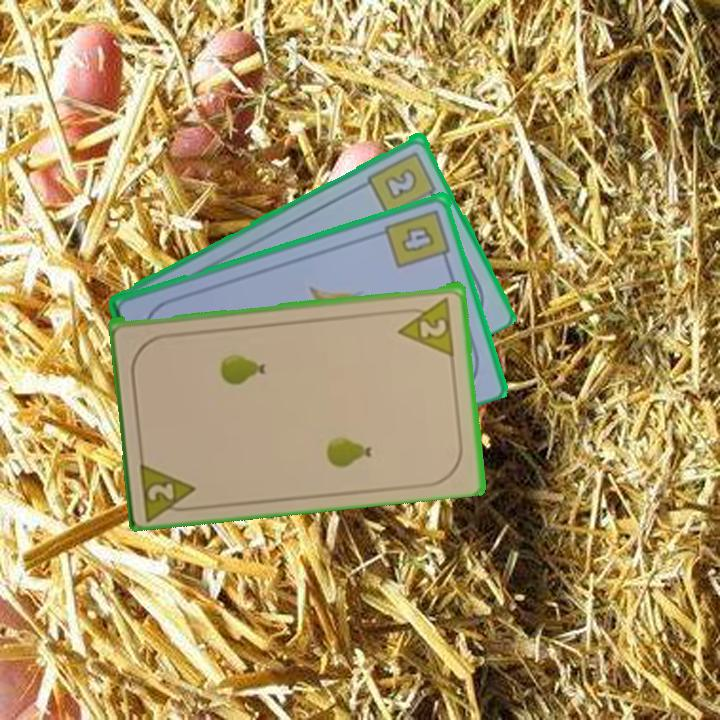2b: (364, 147, 440, 218)
2p: (136, 455, 202, 520), (394, 292, 457, 357)
4b: (382, 205, 453, 271)
